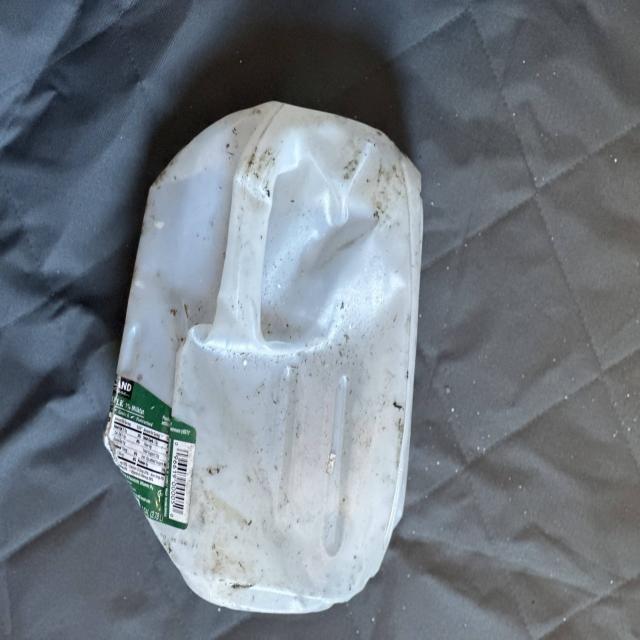milk-jug: (104, 98, 424, 605)
